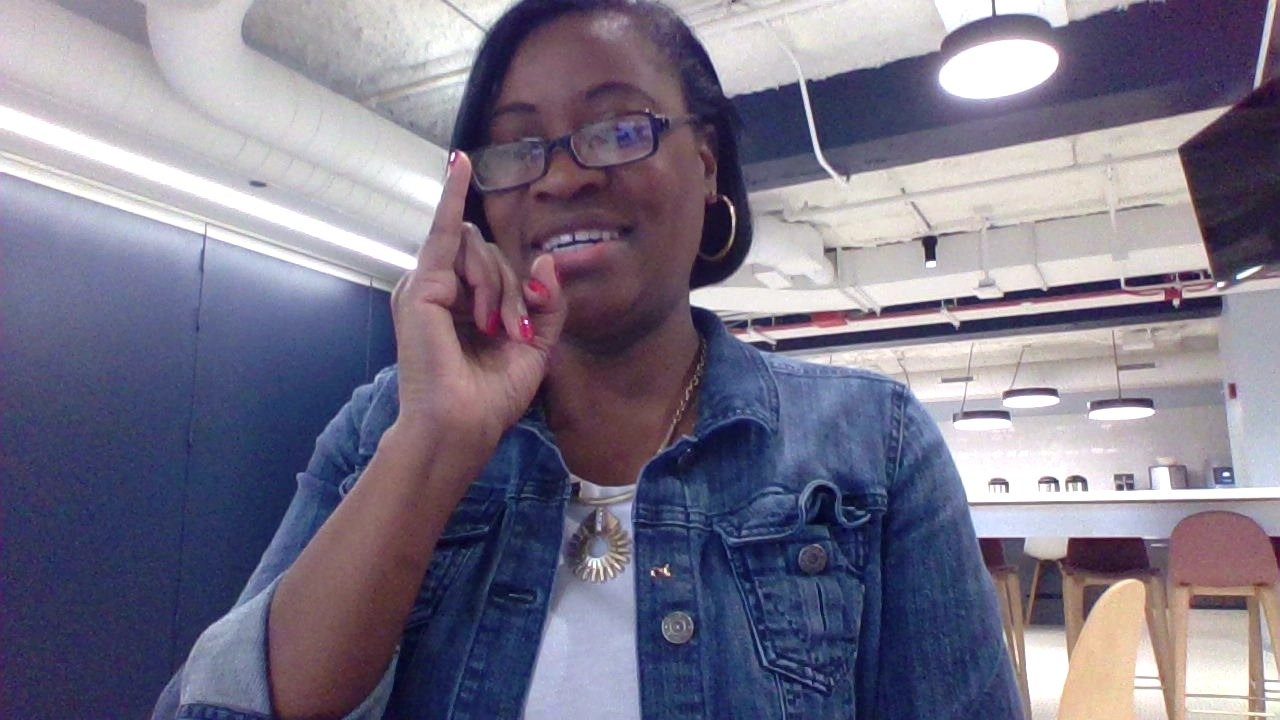i: (381, 132, 584, 480)
